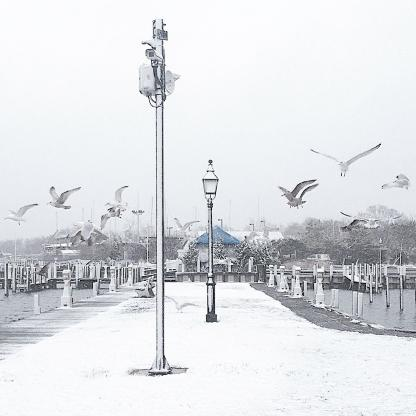Bird: (52, 186, 128, 247), (310, 143, 382, 177), (337, 210, 403, 230), (276, 180, 318, 210), (47, 182, 79, 208), (4, 203, 36, 225), (378, 171, 414, 188), (172, 216, 200, 237), (29, 260, 50, 280)
